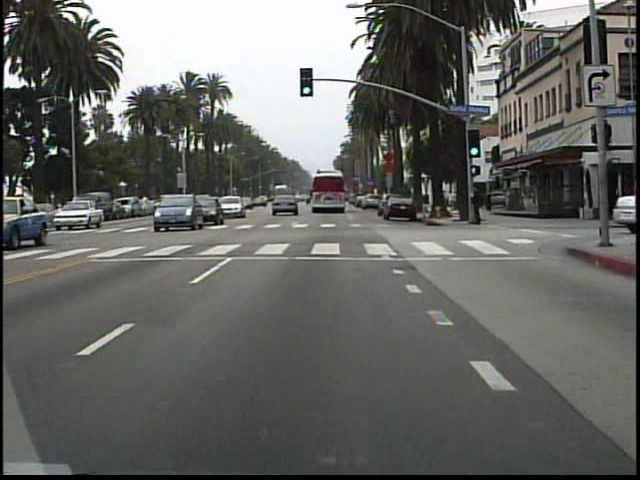person: (469, 180, 485, 229)
